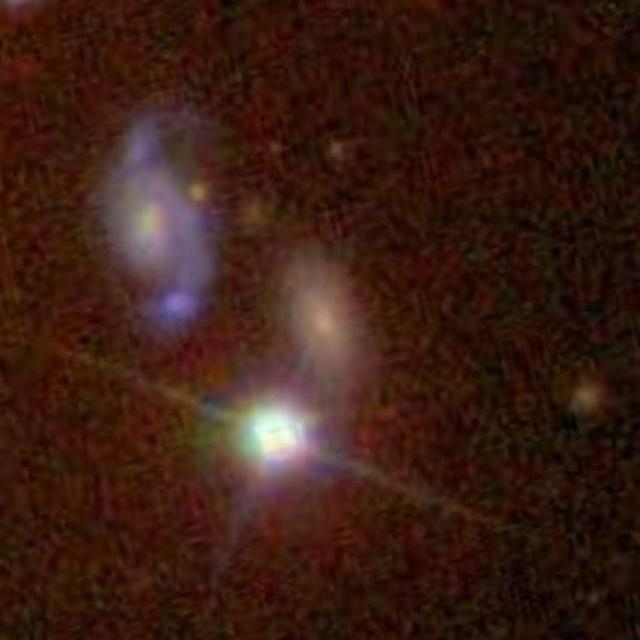galaxy: (99, 105, 218, 328), (272, 233, 372, 398), (234, 192, 276, 244), (565, 377, 609, 425), (326, 137, 352, 169), (188, 174, 213, 207)
star: (28, 331, 552, 603)
